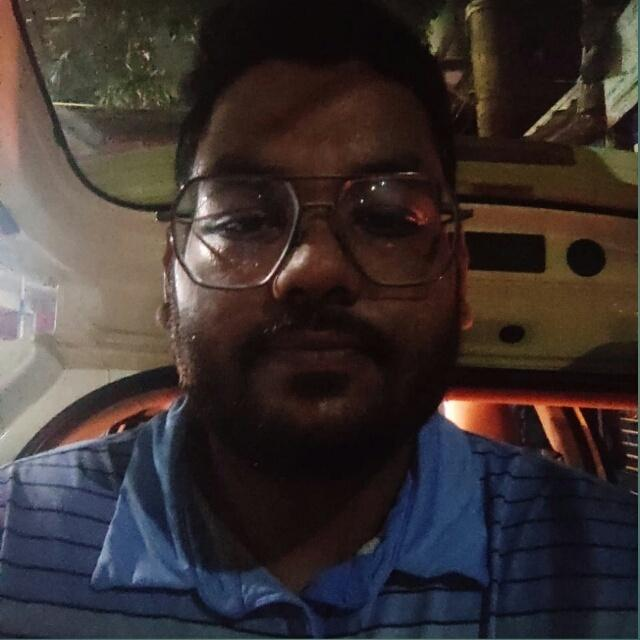Natural: (103, 59, 541, 550)
